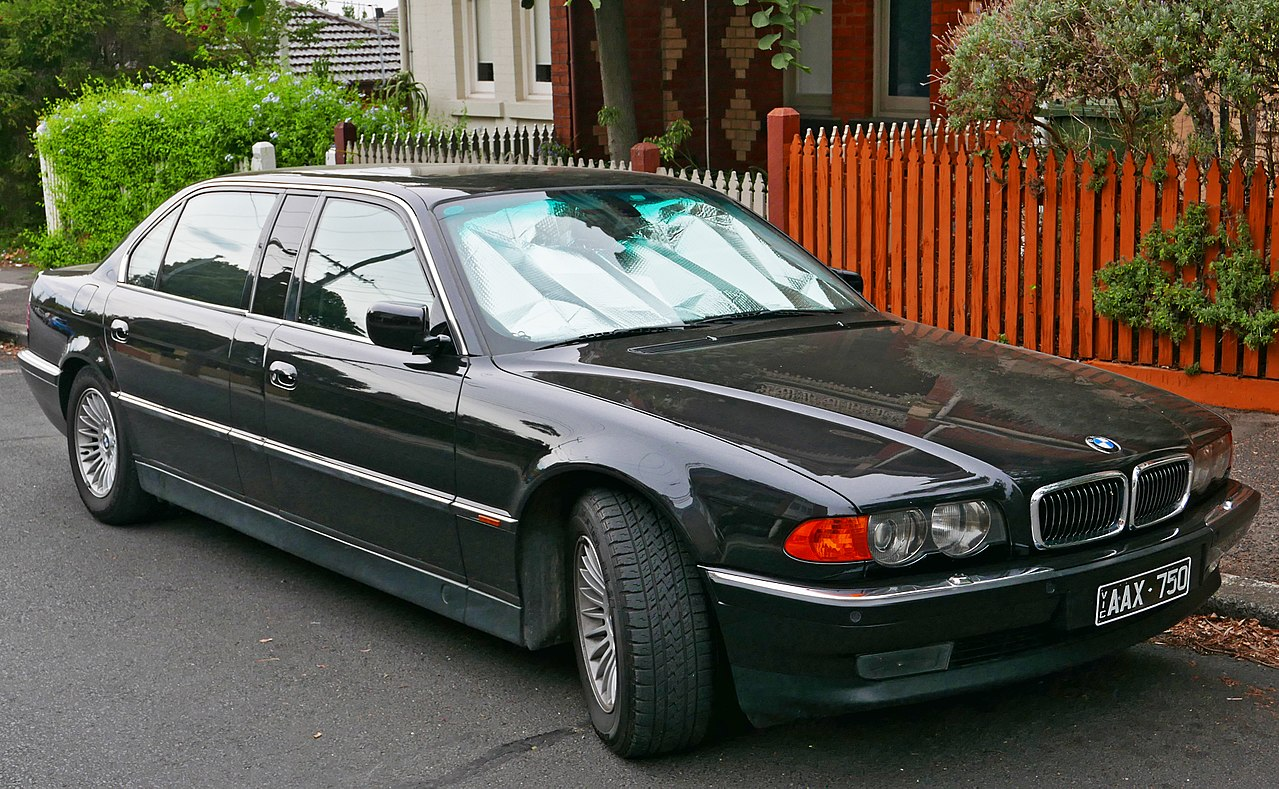plate: (1094, 557, 1192, 627)
